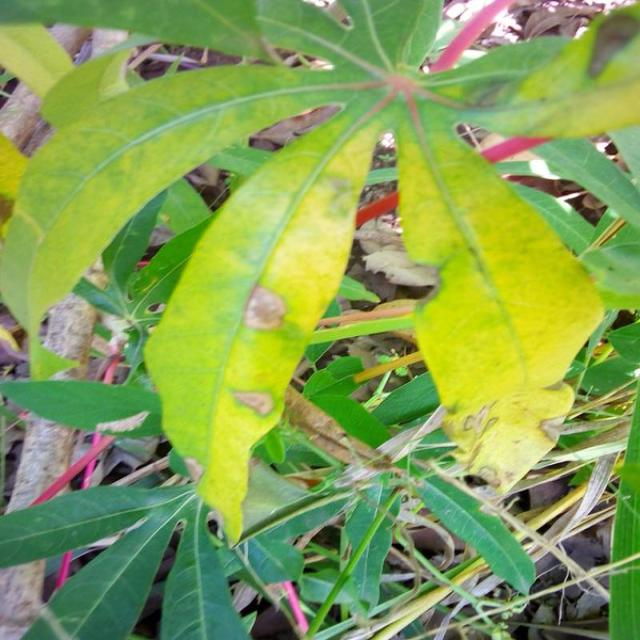cassava leaf: (2, 0, 638, 545), (142, 84, 387, 547), (394, 95, 606, 498)
